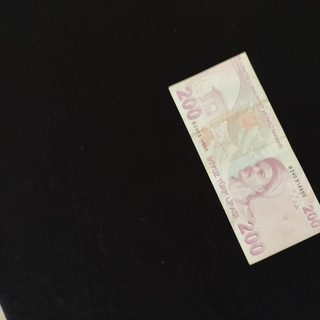200TLBack: (168, 51, 320, 265)
